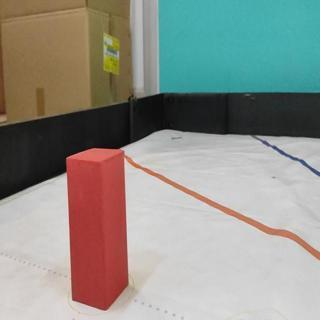redbox: (65, 146, 129, 311)
